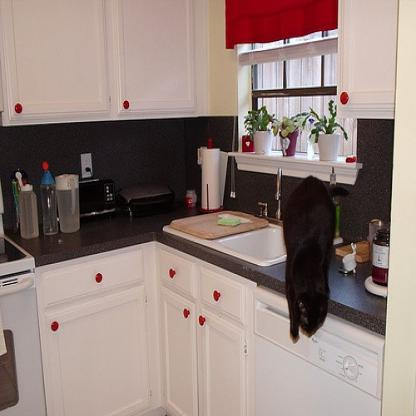bottle: (38, 160, 60, 235), (16, 172, 38, 238)
cat: (280, 175, 336, 341)
pottedplant: (307, 101, 348, 162), (244, 104, 274, 156), (274, 113, 300, 157)
